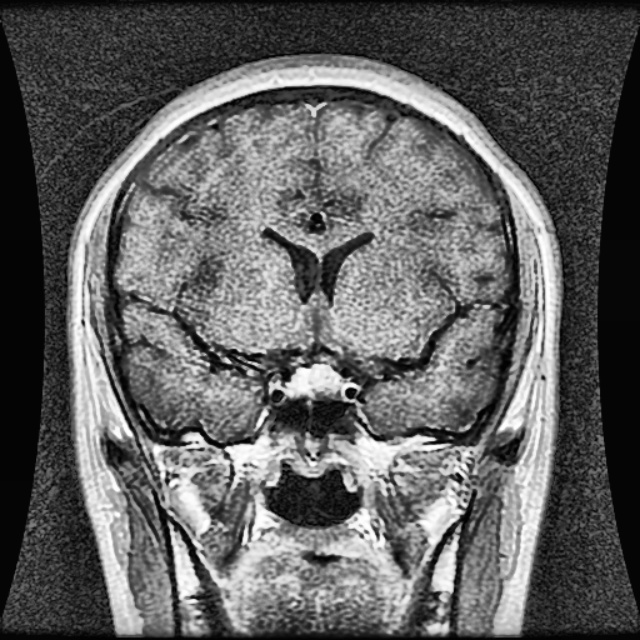Pituitary: (284, 367, 342, 400)
